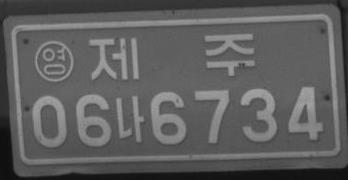0: (31, 94, 66, 149)
3: (240, 87, 277, 143)
4: (287, 85, 323, 141)
6: (149, 90, 187, 145), (75, 92, 112, 148)
7: (193, 88, 230, 144)
나: (115, 94, 145, 143)
영: (34, 39, 74, 82)
제주_D: (87, 33, 255, 80)
